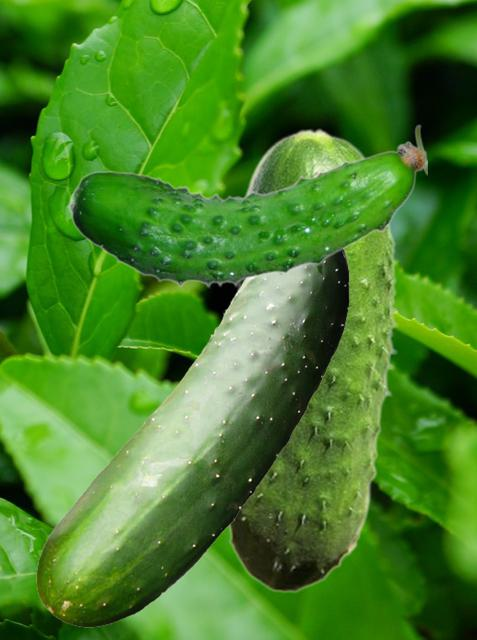cucumber: (36, 249, 348, 626), (225, 127, 398, 592), (66, 124, 426, 287)
